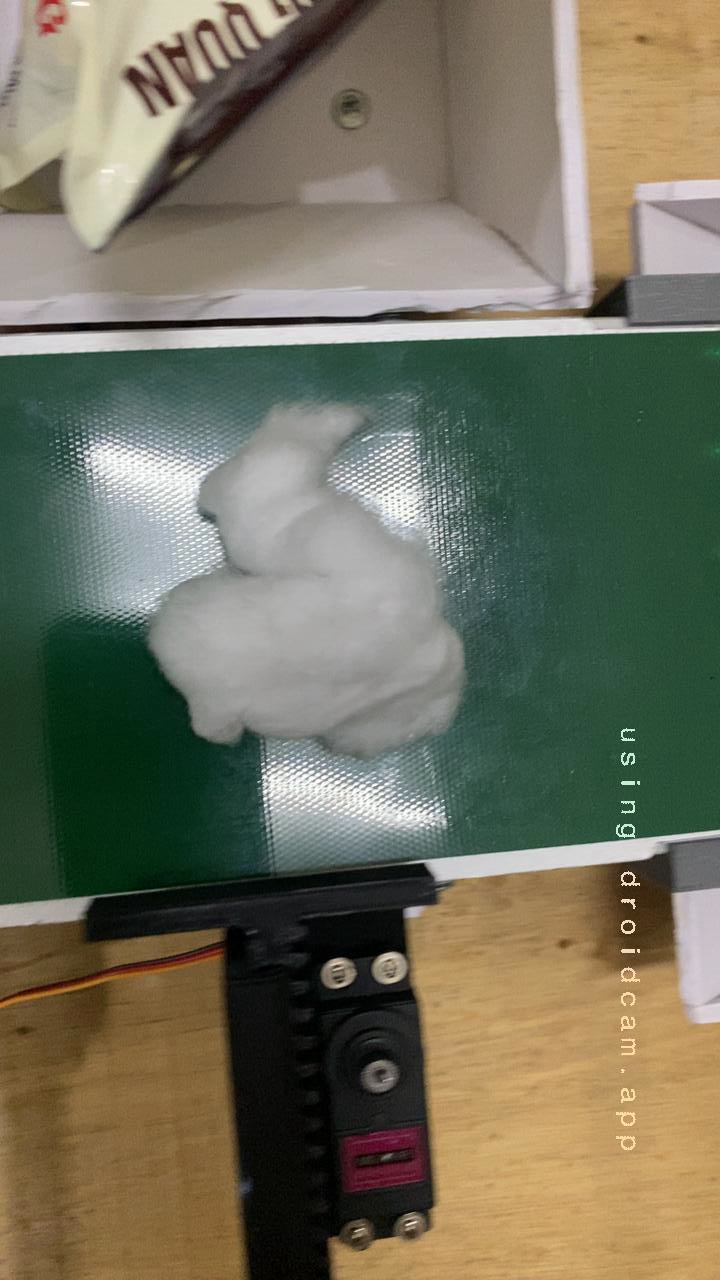cotton: (114, 379, 510, 767)
